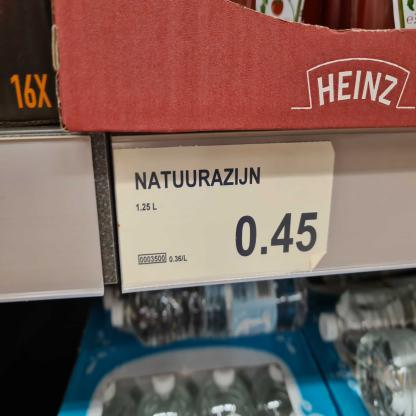prtg: (114, 142, 338, 292)
